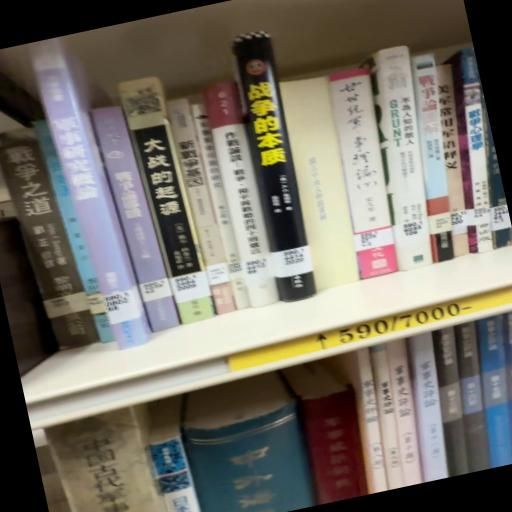backward: (277, 75, 374, 297)
book: (28, 31, 156, 350), (230, 28, 330, 301), (1, 121, 99, 364), (358, 50, 458, 276), (93, 104, 184, 344), (318, 63, 411, 284), (198, 86, 285, 316)
